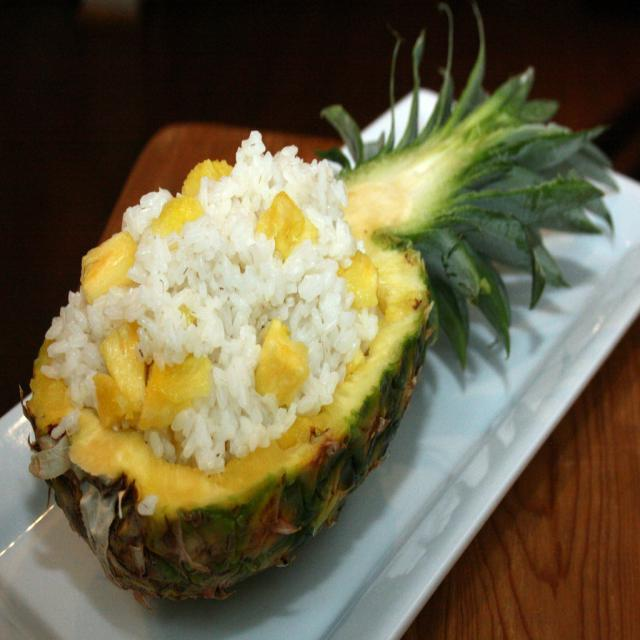Non_Gorille: (5, 4, 640, 640)
